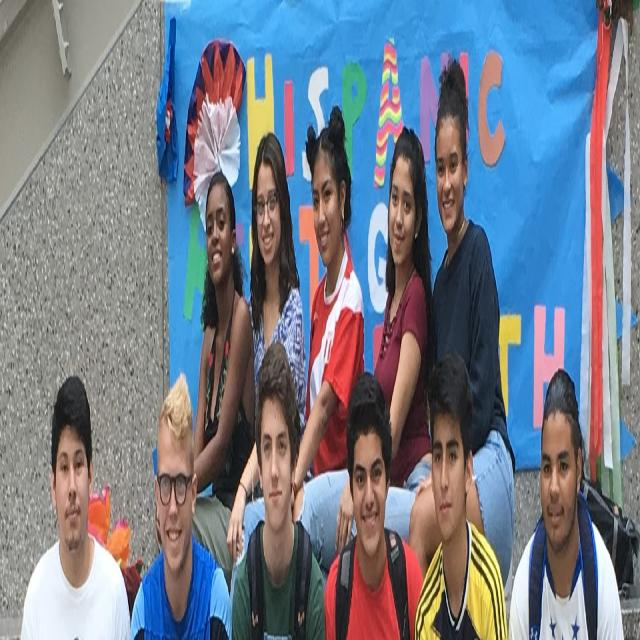body: (407, 46, 514, 638), (332, 124, 436, 562), (155, 168, 255, 594), (290, 102, 364, 590), (226, 132, 306, 569), (511, 356, 625, 638), (18, 368, 130, 639), (229, 336, 329, 639), (410, 356, 510, 638), (322, 369, 426, 639), (130, 364, 231, 639)
